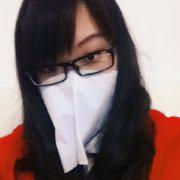OK: (37, 29, 127, 122)
